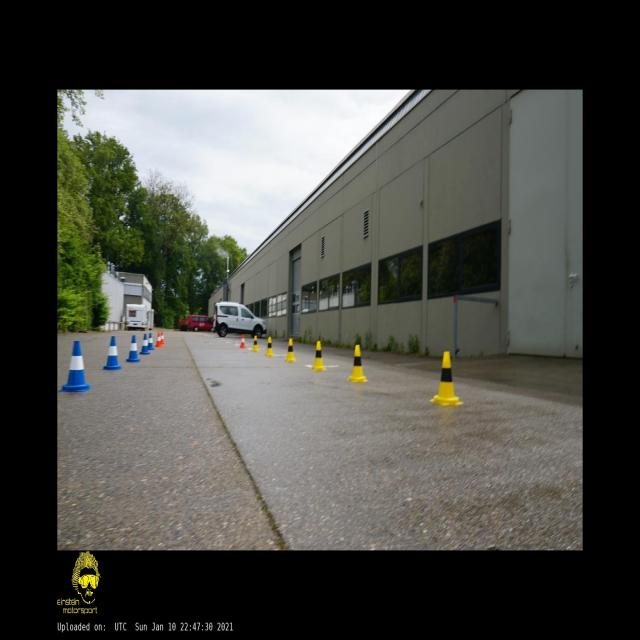blue_cone: (59, 342, 90, 392), (103, 336, 121, 370), (126, 336, 140, 362), (140, 334, 150, 355), (148, 334, 154, 350)
orange_cone: (154, 332, 162, 347), (240, 334, 246, 348), (160, 332, 164, 344)
yellow_cone: (429, 351, 464, 407), (347, 344, 368, 384), (312, 341, 326, 371), (285, 338, 296, 362), (266, 336, 274, 356), (252, 335, 259, 352)
